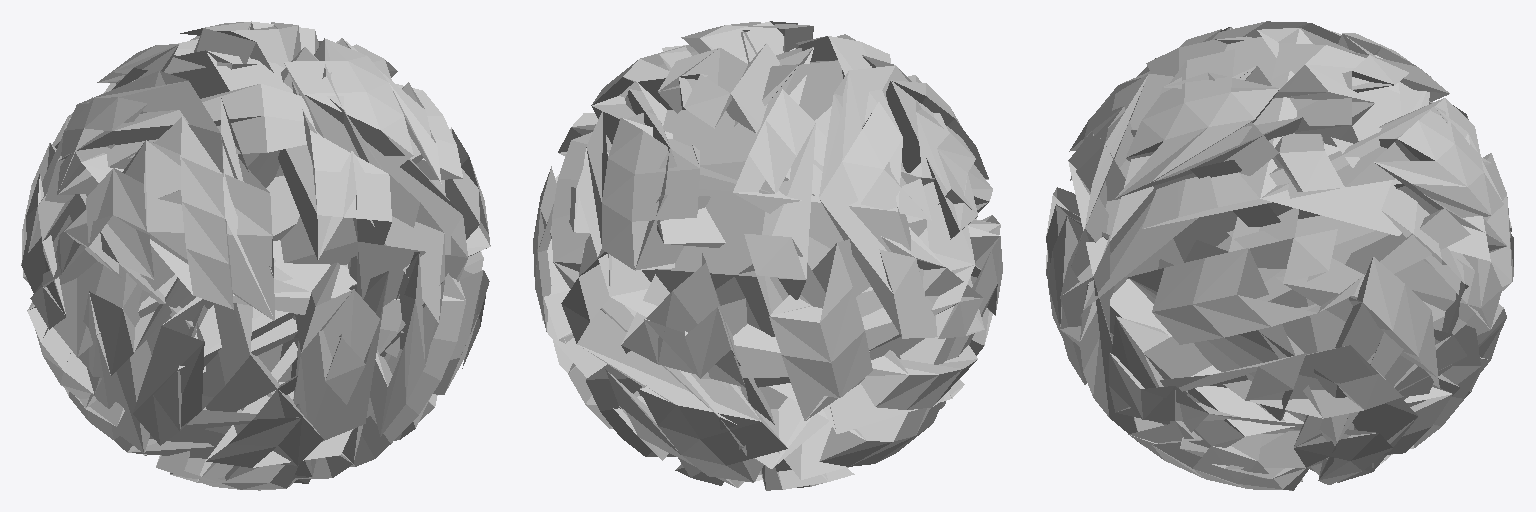
Rendered from Golf ball.obj.
3 views of the same model, side by side, from view 1: azimuth 30°, elevation 25°; view 2: azimuth 150°, elevation 25°; view 3: azimuth 270°, elevation 25° (orthographic).
Visible parts, largest first — view 1: GeoSphere001; view 2: GeoSphere001; view 3: GeoSphere001.
Part boxes in pixels (x1,y1,x2,y2): GeoSphere001: (21,21,490,490); GeoSphere001: (533,21,1002,490); GeoSphere001: (1046,21,1513,490).
Size of the model in its own units: 73054 by 73471 by 73070.